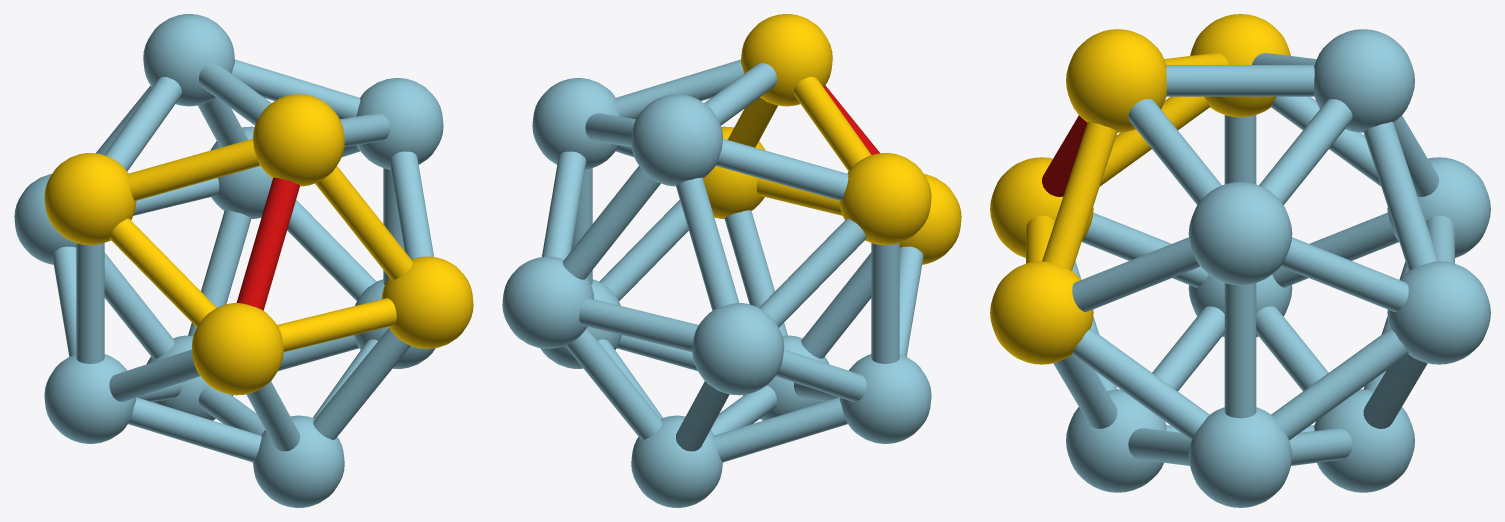
The model's file is yuanzijingti4.FBX.
3 renders of one model, left to right at view 1: azimuth 30°, elevation 25°; view 2: azimuth 150°, elevation 25°; view 3: azimuth 270°, elevation 25°, orthographic. The views are drawn at different scales.
Parts seen in each view (by area): view 1: Y4; view 2: Y4; view 3: Y4.
Part boxes in pixels (x1,y1,x2,y2): Y4: (14,14,473,507); Y4: (502,14,961,507); Y4: (990,14,1490,507).
Bounding box in the file's own units: 36.59 × 36.59 × 36.59.
